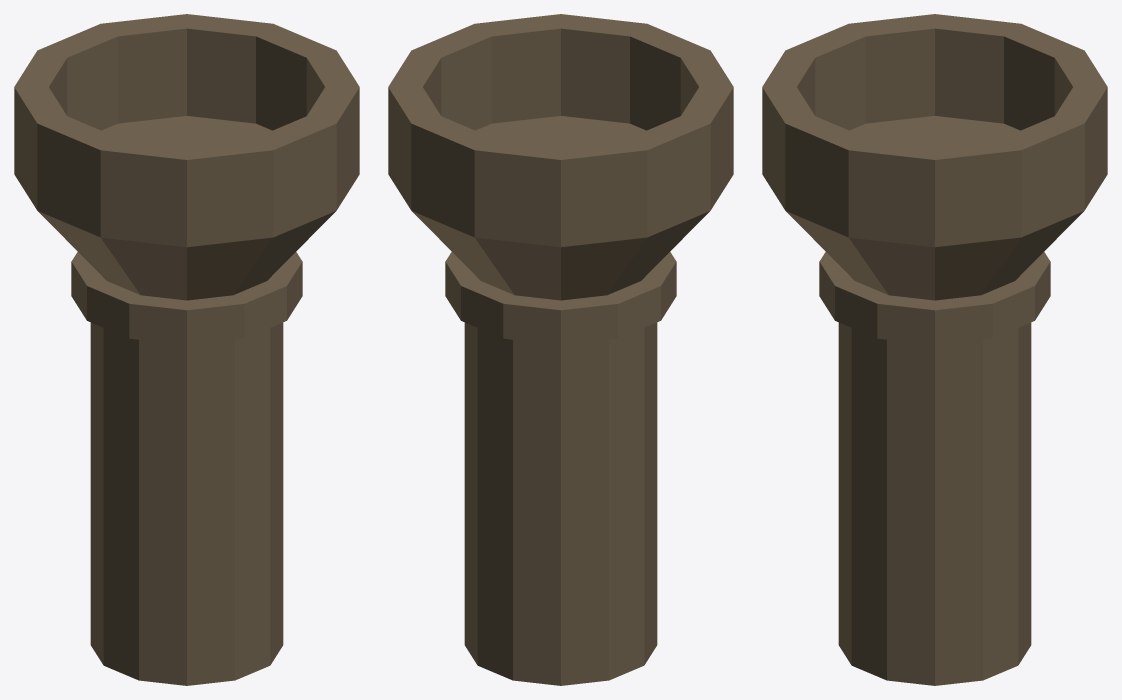
The model's file is victorian_chimney_2.fbx.
3 renders of one model, left to right at view 1: azimuth 30°, elevation 25°; view 2: azimuth 150°, elevation 25°; view 3: azimuth 270°, elevation 25°, orthographic.
Visible parts, largest first — view 1: Cylinder.008; view 2: Cylinder.008; view 3: Cylinder.008.
Part boxes in pixels (box(x1,y1,x2,y2)): Cylinder.008: box(14, 14, 359, 685); Cylinder.008: box(388, 14, 733, 685); Cylinder.008: box(762, 14, 1107, 685).
Size of the model in its own units: 180 by 320 by 180.
